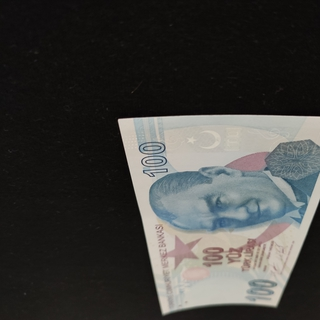100TLFront: (117, 115, 320, 317)
